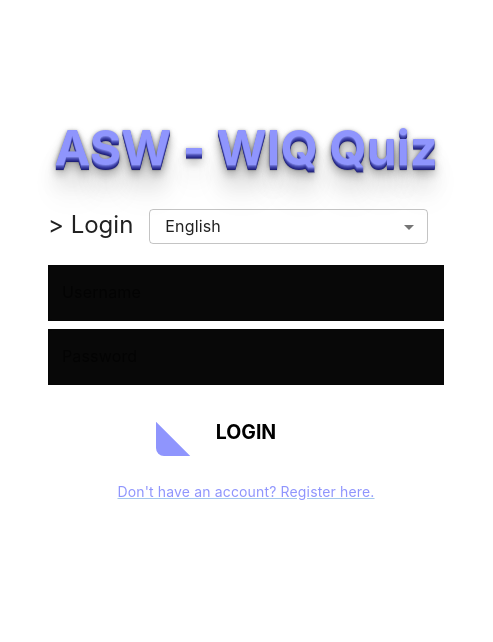
it: User component › toggling between login and registration form works correctly
The width and height of the screenshot is (493, 642).
Note: Simular clic en el enlace para registrar
Click the button "Don't have an account? Register here.": (246, 492) 58,470 -> 434,514
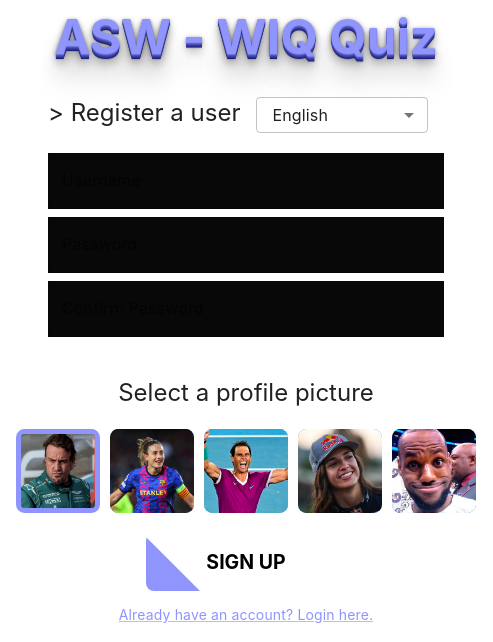
Check: the button "Already have an account? Login here." is shown
Note: Simular clic en el enlace para iniciar sesión
Click the button "Already have an account? Login here.": (246, 615) 119,605 -> 373,625
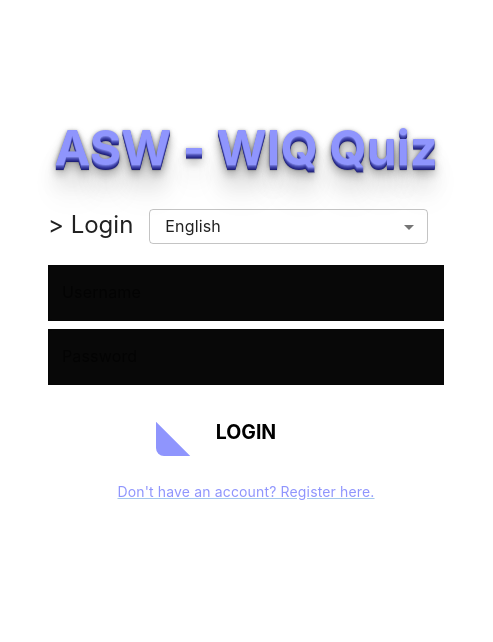
Check: the field labelled "Username" is shown, box 48,265 -> 444,321
